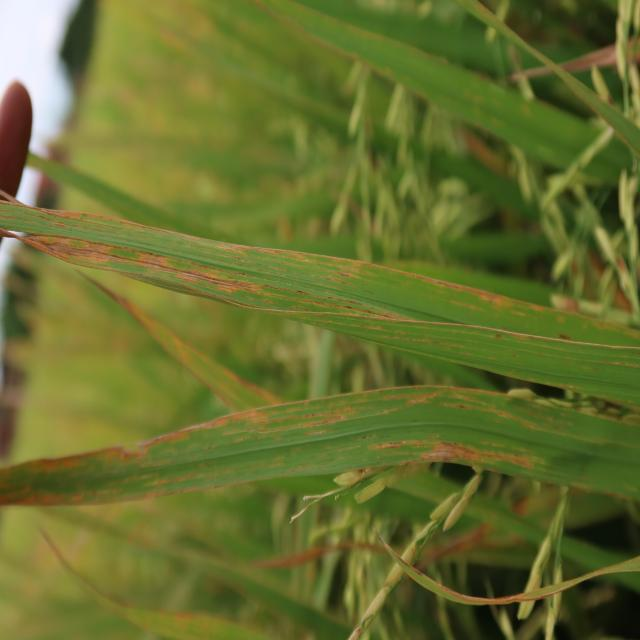Dom soc vi khuan: (134, 384, 583, 470), (35, 237, 285, 307), (359, 434, 548, 477), (286, 285, 412, 320), (317, 259, 364, 287)
